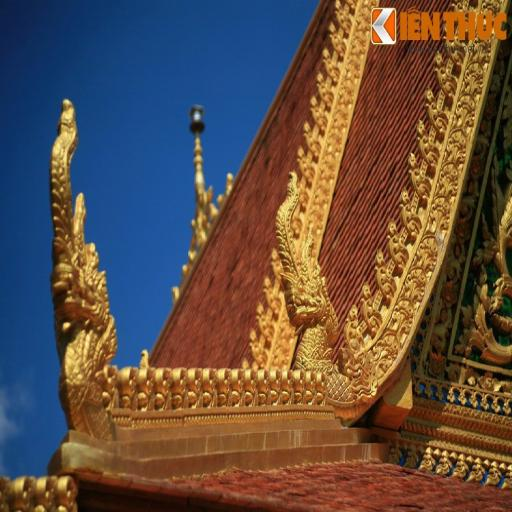la: (417, 236, 437, 272), (404, 267, 424, 302), (456, 94, 474, 132), (376, 332, 396, 366), (465, 59, 482, 95), (431, 199, 448, 234), (449, 132, 465, 168), (440, 160, 456, 196), (394, 300, 410, 336), (472, 41, 490, 64)
lua: (406, 154, 431, 204), (426, 85, 450, 136), (374, 250, 396, 302), (434, 52, 457, 101), (357, 283, 379, 334), (400, 184, 420, 240), (418, 118, 437, 170), (345, 303, 363, 353), (388, 221, 407, 268)
ran: (50, 93, 118, 431), (276, 169, 344, 367)
